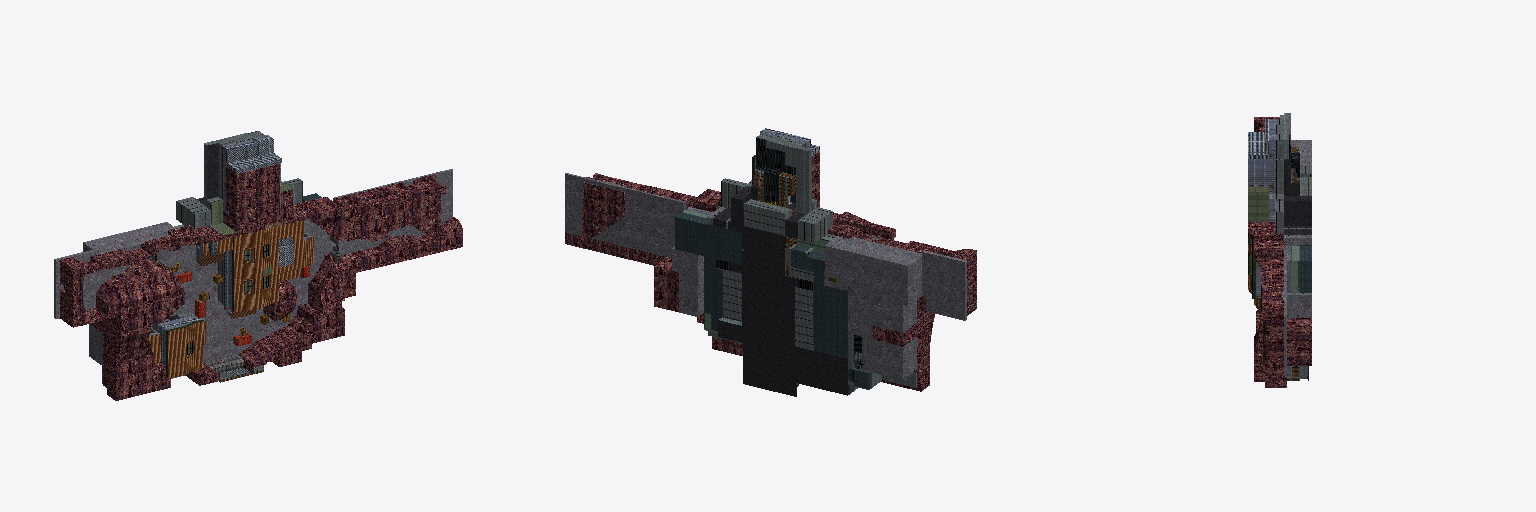
3 renders of one model, left to right at view 1: azimuth 30°, elevation 25°; view 2: azimuth 150°, elevation 25°; view 3: azimuth 270°, elevation 25°, orthographic.
Parts seen in each view (by area): view 1: BSP_Object.model_0; view 2: BSP_Object.model_0; view 3: BSP_Object.model_0.
Boxes of the visible parts, x1,y1,x2,y2 form: BSP_Object.model_0: [54, 131, 462, 400]; BSP_Object.model_0: [565, 128, 976, 396]; BSP_Object.model_0: [1248, 113, 1311, 387].
Size of the model in its own units: 6848 by 3936 by 964.
91 materials, 91 textured.